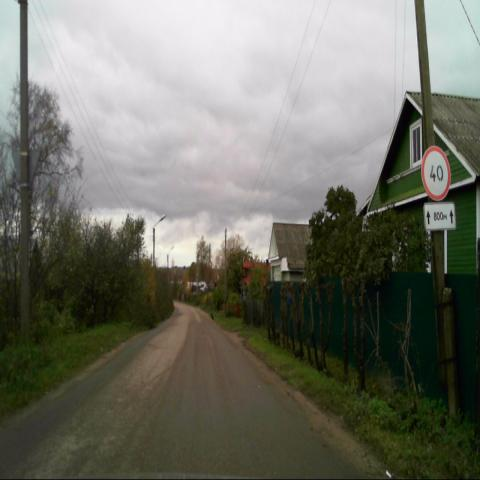3_24: (421, 146, 451, 201)
